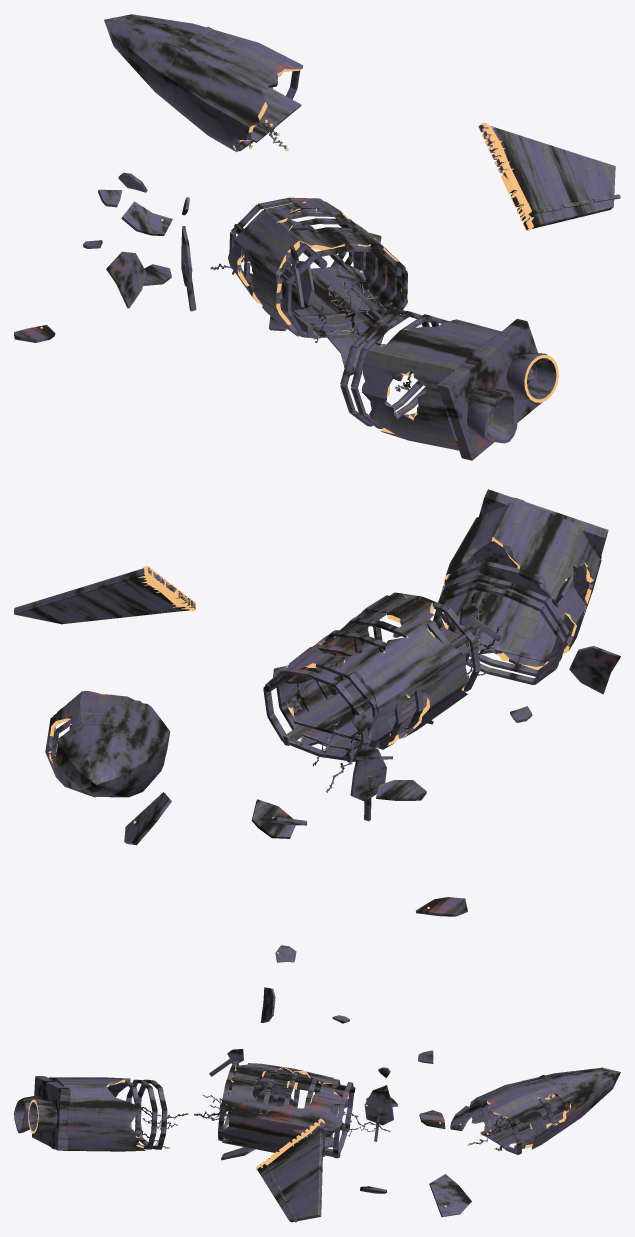
The model's file is wreck.glb.
3 renders of one model, top to bottom at view 1: azimuth 30°, elevation 25°; view 2: azimuth 150°, elevation 25°; view 3: azimuth 270°, elevation 25°, orthographic. The views are drawn at different scales.
Visible parts, largest first — view 1: Wreck_Stern, Wreck_Mid, Wreck_Bow, Wreck_Wing, Wreck_Debris; view 2: Wreck_Mid, Wreck_Stern, Wreck_Bow, Wreck_Debris, Wreck_Wing; view 3: Wreck_Mid, Wreck_Stern, Wreck_Bow, Wreck_Debris, Wreck_Wing.
Boxes of the visible parts, left/top/right/bottom form: Wreck_Stern: left=340, top=308, right=558, bottom=460; Wreck_Mid: left=210, top=197, right=407, bottom=342; Wreck_Bow: left=104, top=14, right=303, bottom=152; Wreck_Wing: left=478, top=122, right=620, bottom=230; Wreck_Debris: left=14, top=172, right=383, bottom=375; Wreck_Mid: left=263, top=592, right=486, bottom=792; Wreck_Stern: left=433, top=489, right=608, bottom=685; Wreck_Bow: left=45, top=691, right=169, bottom=797; Wreck_Debris: left=124, top=576, right=620, bottom=916; Wreck_Wing: left=14, top=566, right=195, bottom=624; Wreck_Mid: left=194, top=1061, right=390, bottom=1158; Wreck_Stern: left=14, top=1076, right=188, bottom=1151; Wreck_Bow: left=467, top=1067, right=620, bottom=1154; Wreck_Debris: left=209, top=945, right=471, bottom=1217; Wreck_Wing: left=255, top=1118, right=324, bottom=1222.
Bounding box in the file's own units: 25.66 × 11.43 × 35.28.
2 materials, 1 textured.
